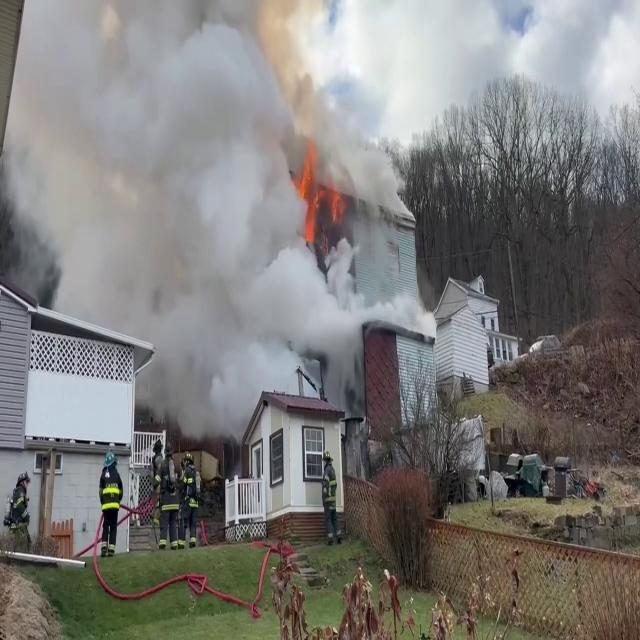Fire: (291, 141, 327, 243)
Smoke: (0, 0, 374, 425)
